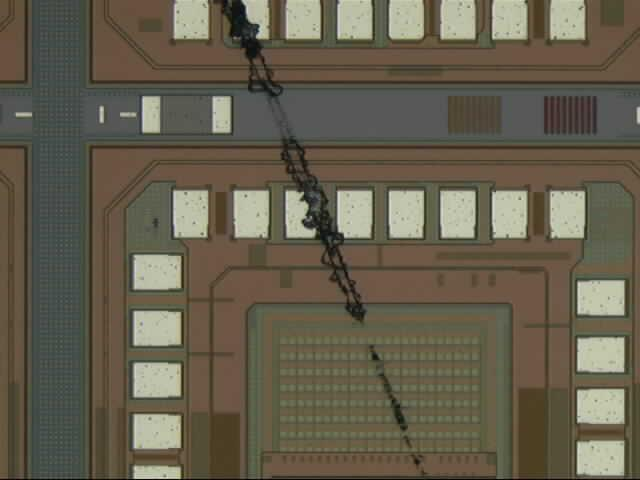SCRATCH: (206, 1, 435, 480)
